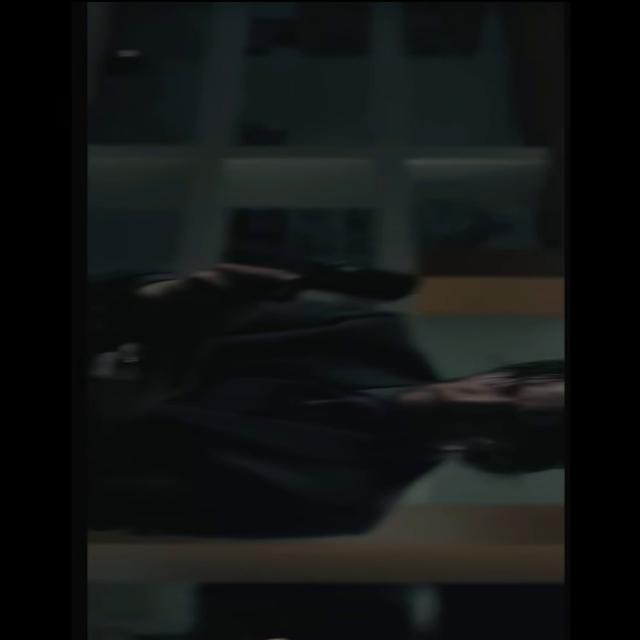weapons: (171, 239, 446, 333)
